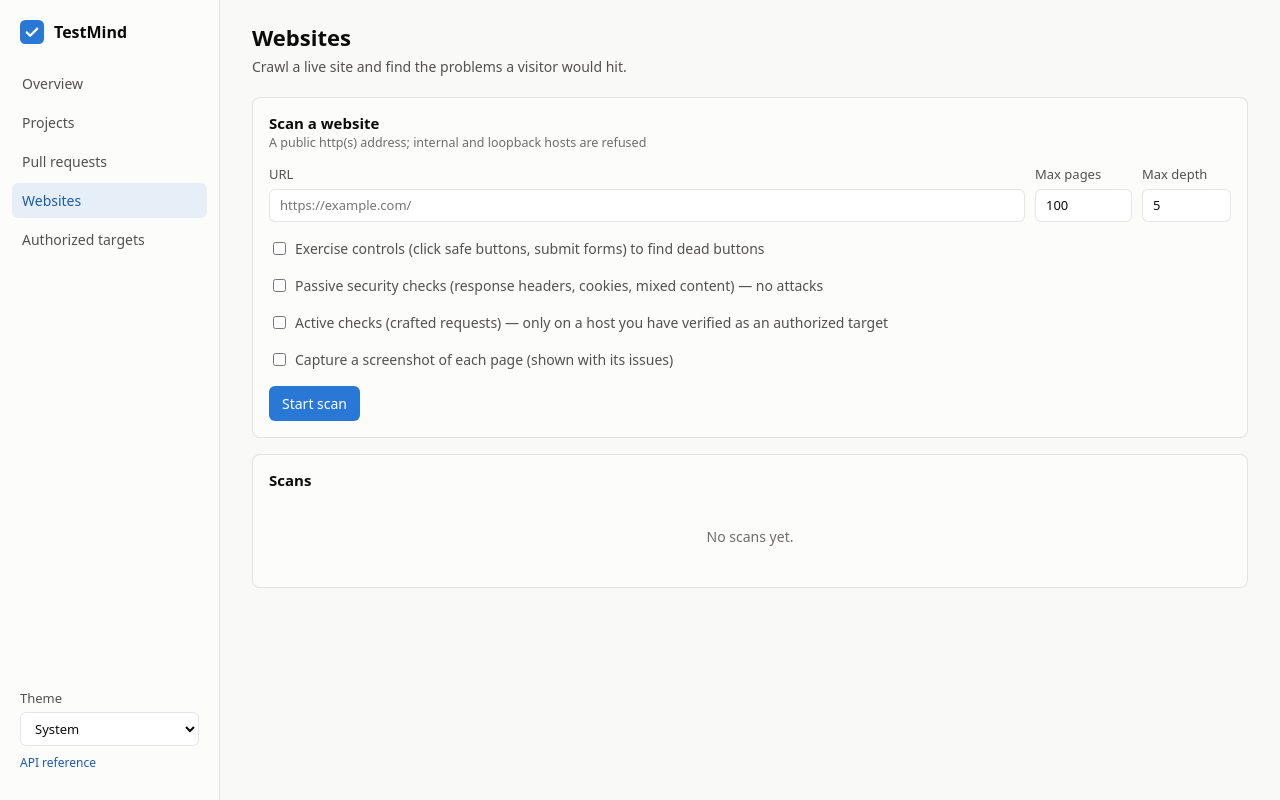
Test: Websites › rejects an internal target with the API's message
In the field labelled "URL": (647, 205) x1=269 y1=188 x2=1025 y2=222, type "http://127.0.0.1/"
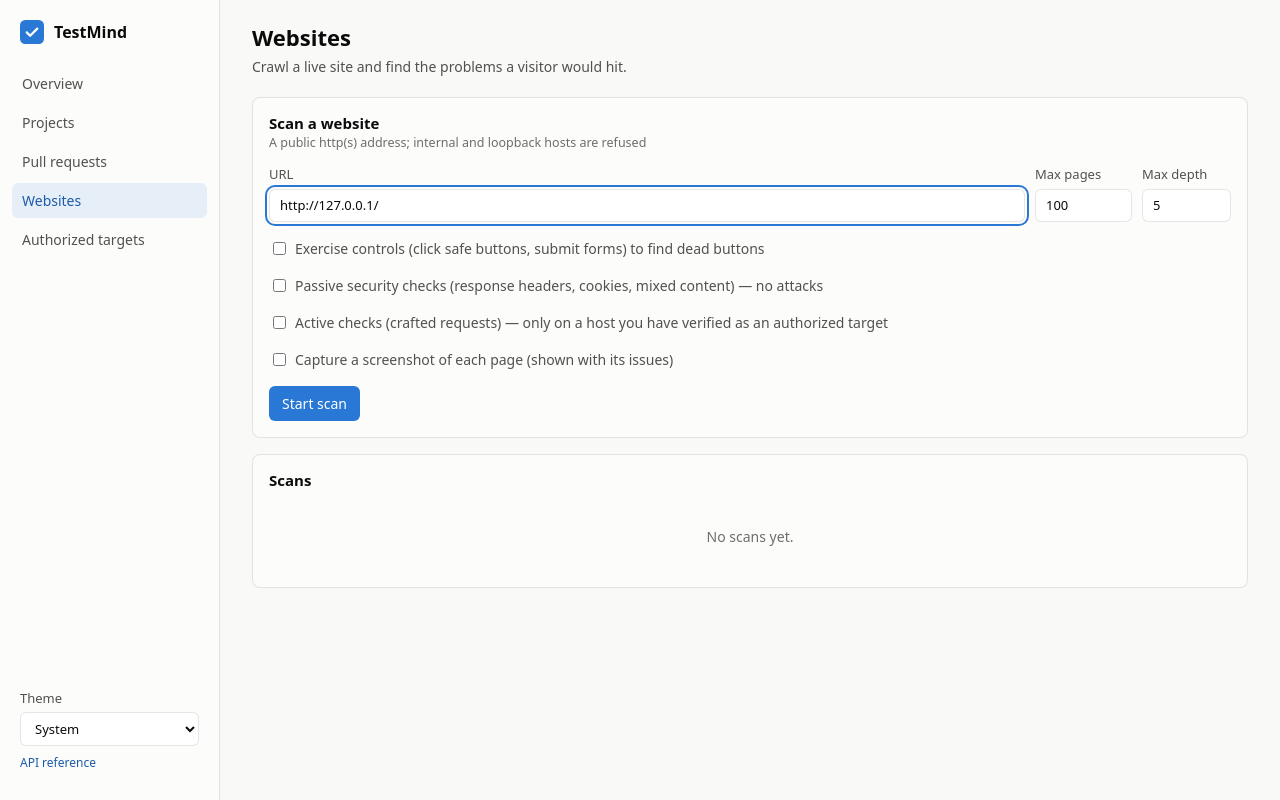
Click the button "Start scan": (314, 404) x1=269 y1=386 x2=360 y2=421
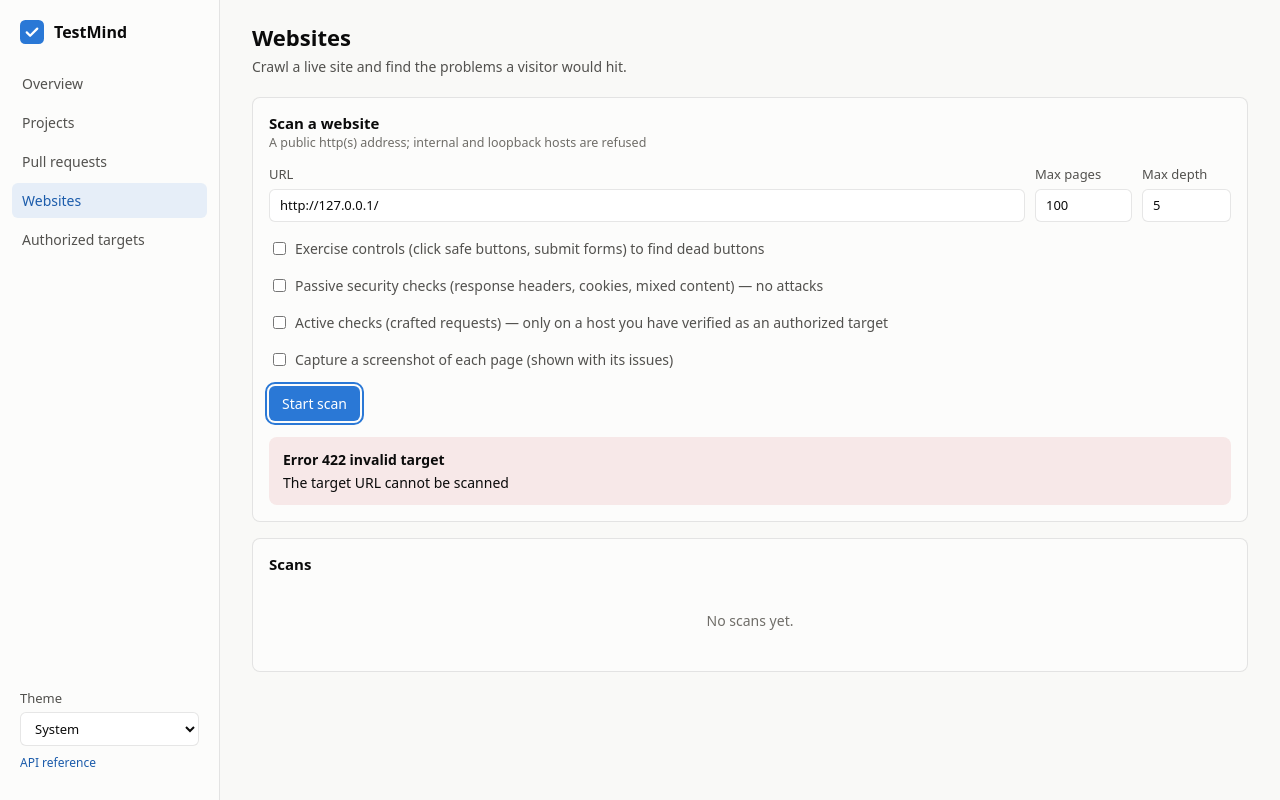
Check: the text "The target URL cannot be scanned" is shown, box x1=283 y1=473 x2=509 y2=492
